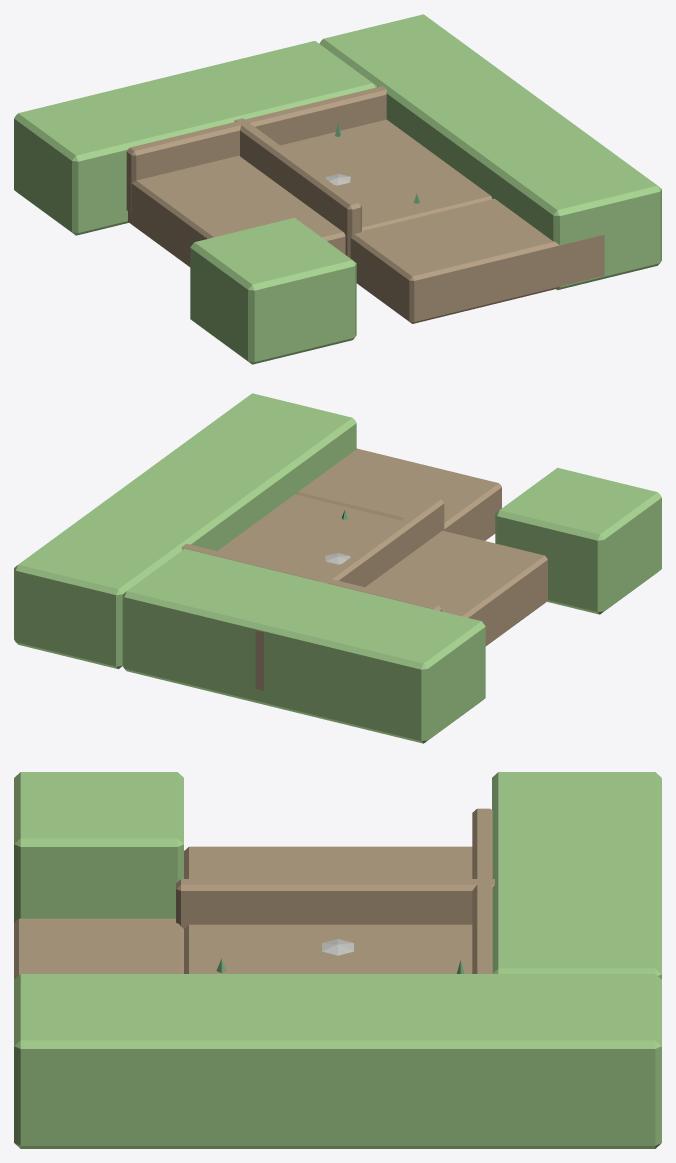
Rendered from town_river_bend_tile.glb.
3 views of the same model, one above another, from view 1: azimuth 30°, elevation 25°; view 2: azimuth 150°, elevation 25°; view 3: azimuth 270°, elevation 25° (orthographic). The views are drawn at different scales.
Visible parts, largest first — view 1: world; view 2: world; view 3: world.
Boxes of the visible parts, <box> form: world: <box>14,14,661,364</box>; world: <box>14,393,661,743</box>; world: <box>14,772,661,1148</box>.
Size of the model in its own units: 2 by 0.3698 by 2.
